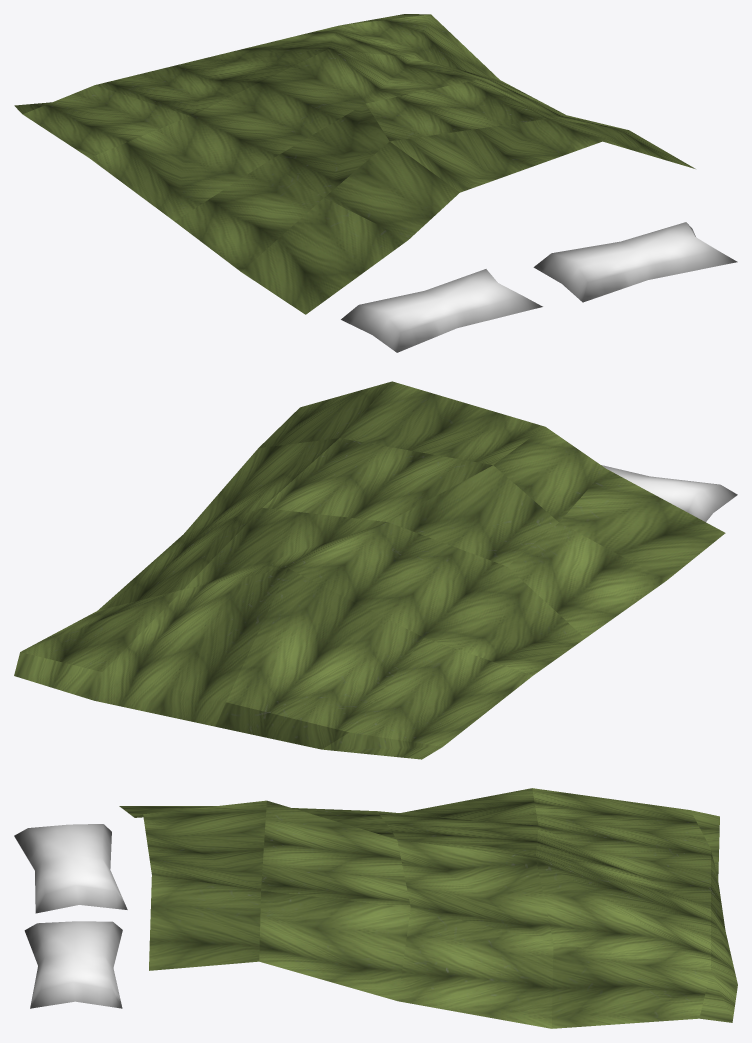
Rendered from TargetBedClothes.fbx.
The picture shows the model from 3 angles, top to bottom: view 1: azimuth 30°, elevation 25°; view 2: azimuth 150°, elevation 25°; view 3: azimuth 270°, elevation 25°; orthographic projection.
Visible parts, largest first — view 1: Blanket, Pillow, Pillow.001; view 2: Blanket, Pillow.001; view 3: Blanket, Pillow, Pillow.001.
Part boxes in pixels (x1=…): Blanket: x1=14, y1=14, x2=695, y2=314; Pillow: x1=533, y1=222, x2=737, y2=302; Pillow.001: x1=341, y1=269, x2=542, y2=352; Blanket: x1=14, y1=381, x2=725, y2=759; Pillow.001: x1=601, y1=465, x2=737, y2=521; Blanket: x1=119, y1=788, x2=737, y2=1028; Pillow: x1=24, y1=921, x2=122, y2=1008; Pillow.001: x1=14, y1=824, x2=127, y2=913.
Size of the model in its own units: 174 by 42.49 by 253.
Materials: 2 (2 with a texture image).
